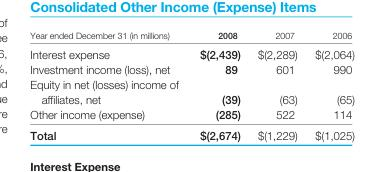table: (29, 29, 353, 141)
table column: (29, 29, 188, 141), (188, 29, 248, 141), (248, 29, 305, 141), (305, 29, 353, 141)
table column header: (29, 29, 353, 43)
table row: (29, 76, 353, 106), (29, 43, 353, 61), (29, 106, 353, 124), (29, 124, 353, 141), (29, 61, 353, 76), (29, 29, 353, 43)
